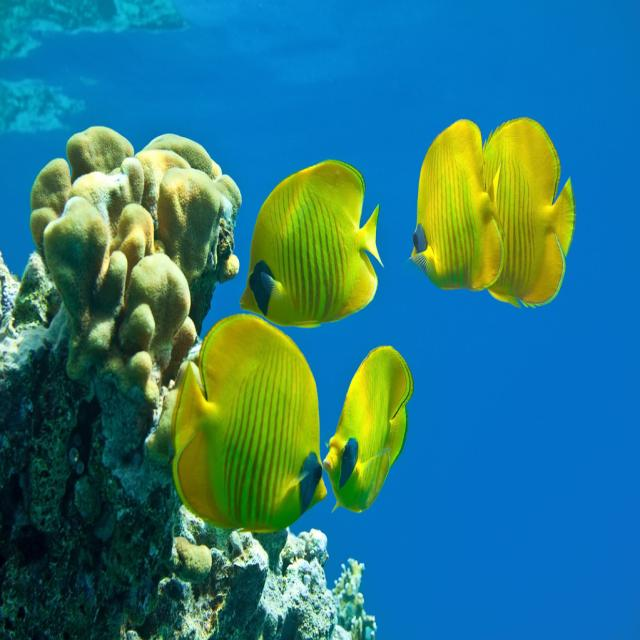ButterflyFish: (174, 318, 326, 546), (242, 159, 384, 320), (409, 119, 503, 298), (489, 115, 576, 308), (327, 349, 414, 513)
